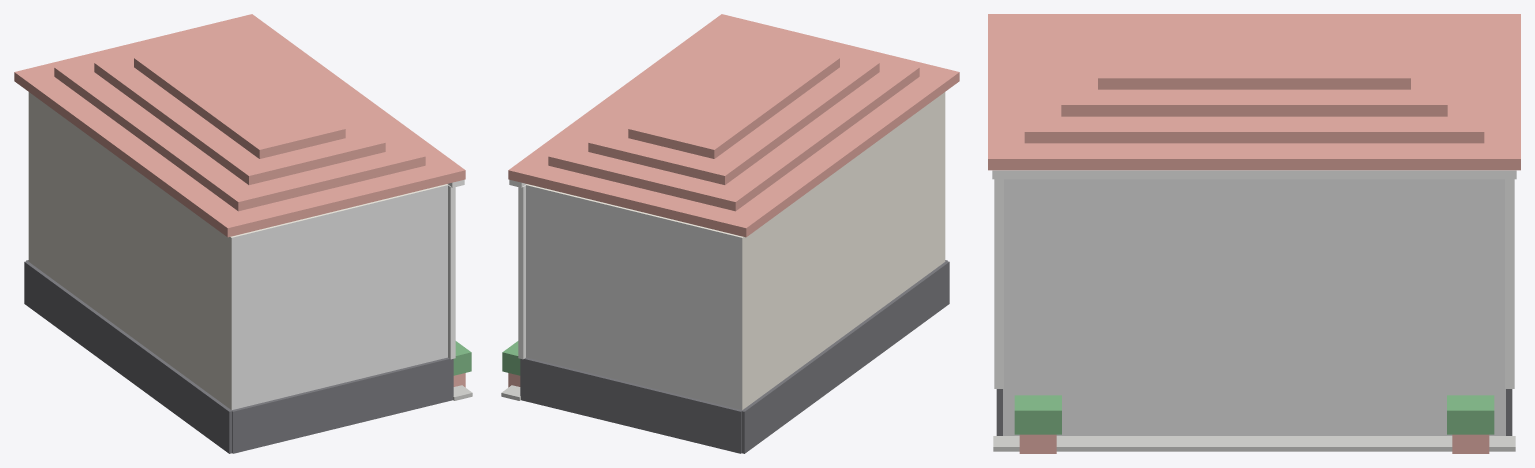
File: FShop_Wide.fbx
The picture shows the model from 3 angles, left to right: view 1: azimuth 30°, elevation 25°; view 2: azimuth 150°, elevation 25°; view 3: azimuth 270°, elevation 25°; orthographic projection. The views are drawn at different scales.
Parts seen in each view (by area): view 1: FShop_Wide; view 2: FShop_Wide; view 3: FShop_Wide.
Part boxes in pixels (box(x1,y1,x2,y2)): FShop_Wide: box(14, 14, 472, 453); FShop_Wide: box(501, 14, 959, 453); FShop_Wide: box(988, 14, 1520, 453).
Bounding box in the file's own units: 6.95 × 6.73 × 10.1.
